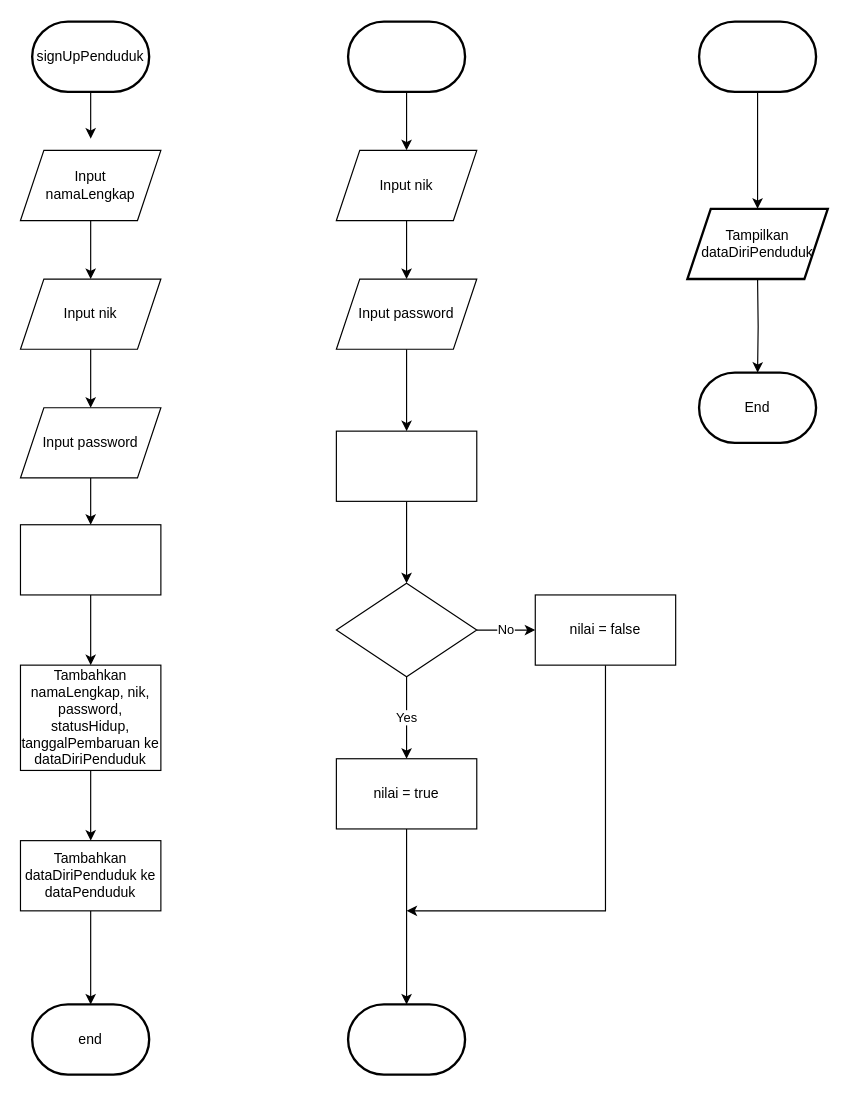
This 849x1095 diagram has some shape labels left out. The box of each missing label's shape, as (x1, y1, x2, y2) in pixels:
logInPenduduk: (346, 20, 466, 92)
nik in dataPenduduk && password in dataPenduduk: (335, 582, 477, 677)
return nilai: (346, 1003, 466, 1075)
Searching nik dan password pada dataPenduduk: (335, 430, 477, 501)
statusHidup = "hidup": (19, 524, 161, 595)
tampilkanData Diri: (697, 20, 817, 92)
